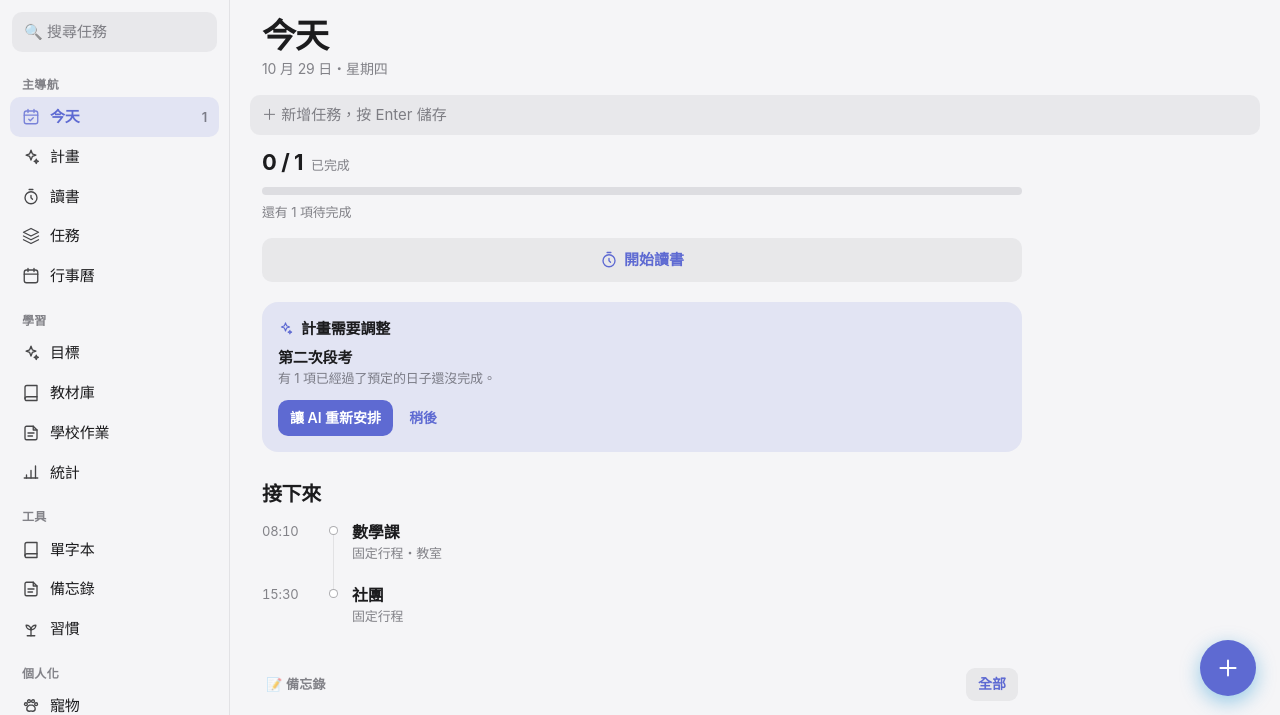
Test case: UI-R1：視覺重構後功能沒有退化 › 5. 「計畫需要調整」的 CTA 仍然開既有的 Replan 流程
Expected: the heading "今天" is shown, top-left (262, 15), bottom-right (328, 56)
Click the button "讓 AI 重新安排" at {"x": 336, "y": 418}, box top-left (278, 400), bottom-right (393, 436)
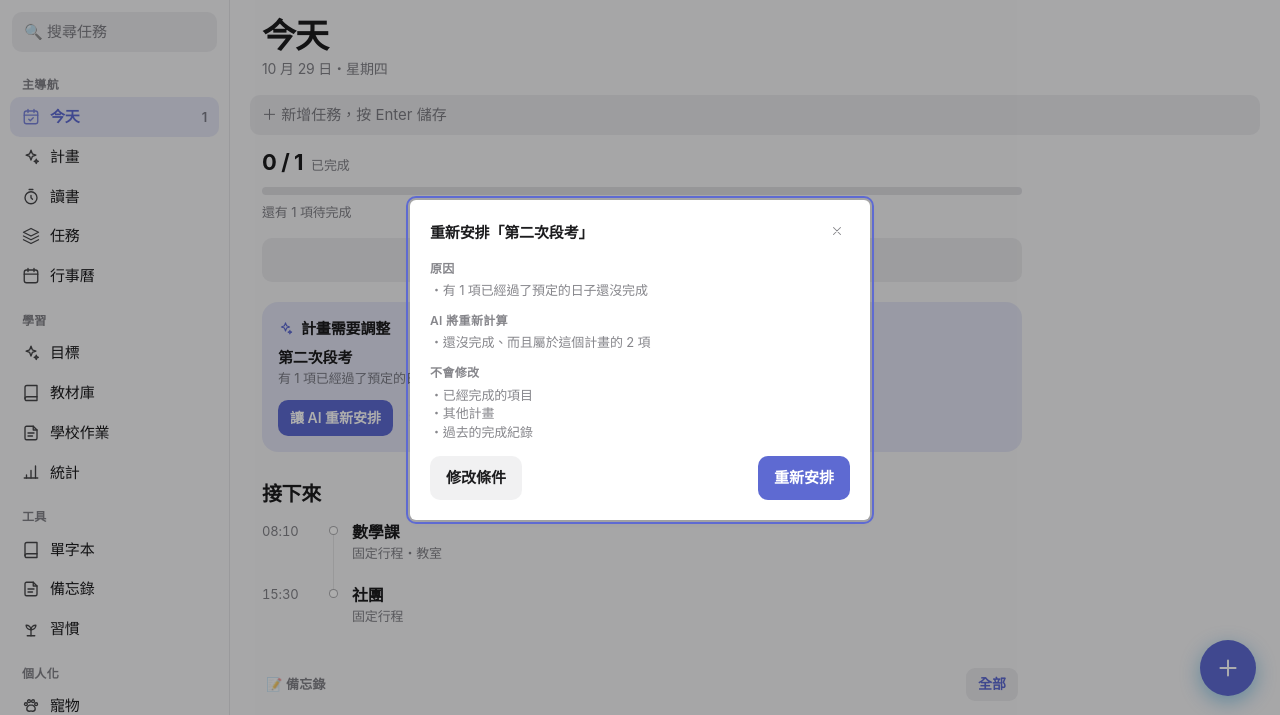
Now the text "重新安排「第二次段考」" is shown, box top-left (430, 222), bottom-right (593, 244)
